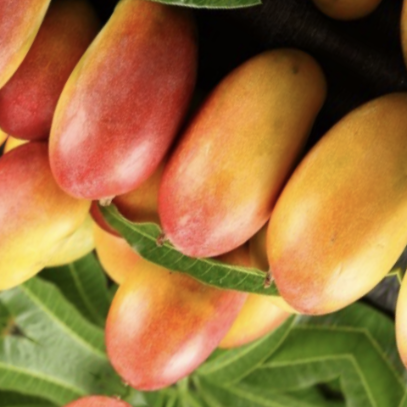mango: (0, 0, 251, 252), (123, 10, 354, 280), (219, 60, 407, 362), (63, 197, 277, 407)
